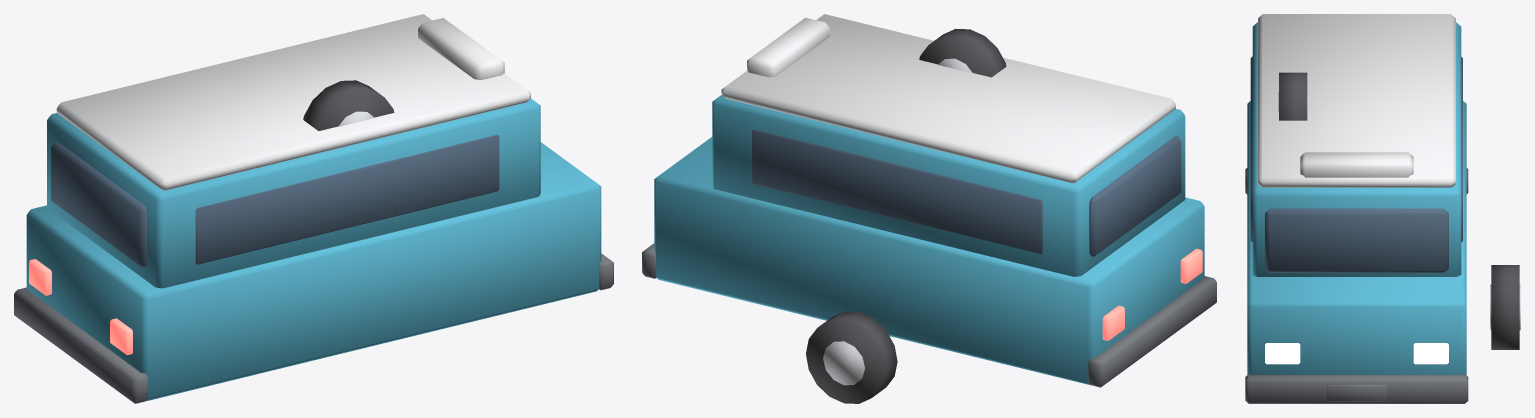
The model's file is veh_angkot.glb.
3 views of the same model, side by side, from view 1: azimuth 30°, elevation 25°; view 2: azimuth 150°, elevation 25°; view 3: azimuth 270°, elevation 25° (orthographic). The views are drawn at different scales.
Visible parts, largest first — view 1: VehAngkot, Wheel_0, Wheel_2; view 2: VehAngkot, Wheel_1, Wheel_3, Wheel_2, Wheel_0; view 3: VehAngkot, Wheel_1, Wheel_0.
Boxes of the visible parts, bbox=[...] form: VehAngkot: bbox=[14, 14, 613, 403]; Wheel_0: bbox=[303, 80, 394, 129]; Wheel_2: bbox=[305, 82, 390, 130]; VehAngkot: bbox=[642, 14, 1216, 387]; Wheel_1: bbox=[806, 311, 897, 403]; Wheel_3: bbox=[806, 312, 897, 402]; Wheel_2: bbox=[919, 30, 1006, 76]; Wheel_0: bbox=[929, 28, 991, 77]; VehAngkot: bbox=[1245, 14, 1468, 403]; Wheel_1: bbox=[1490, 265, 1520, 349]; Wheel_0: bbox=[1278, 72, 1308, 120].
Size of the model in its own units: 2.89 by 1.68 by 1.56.
